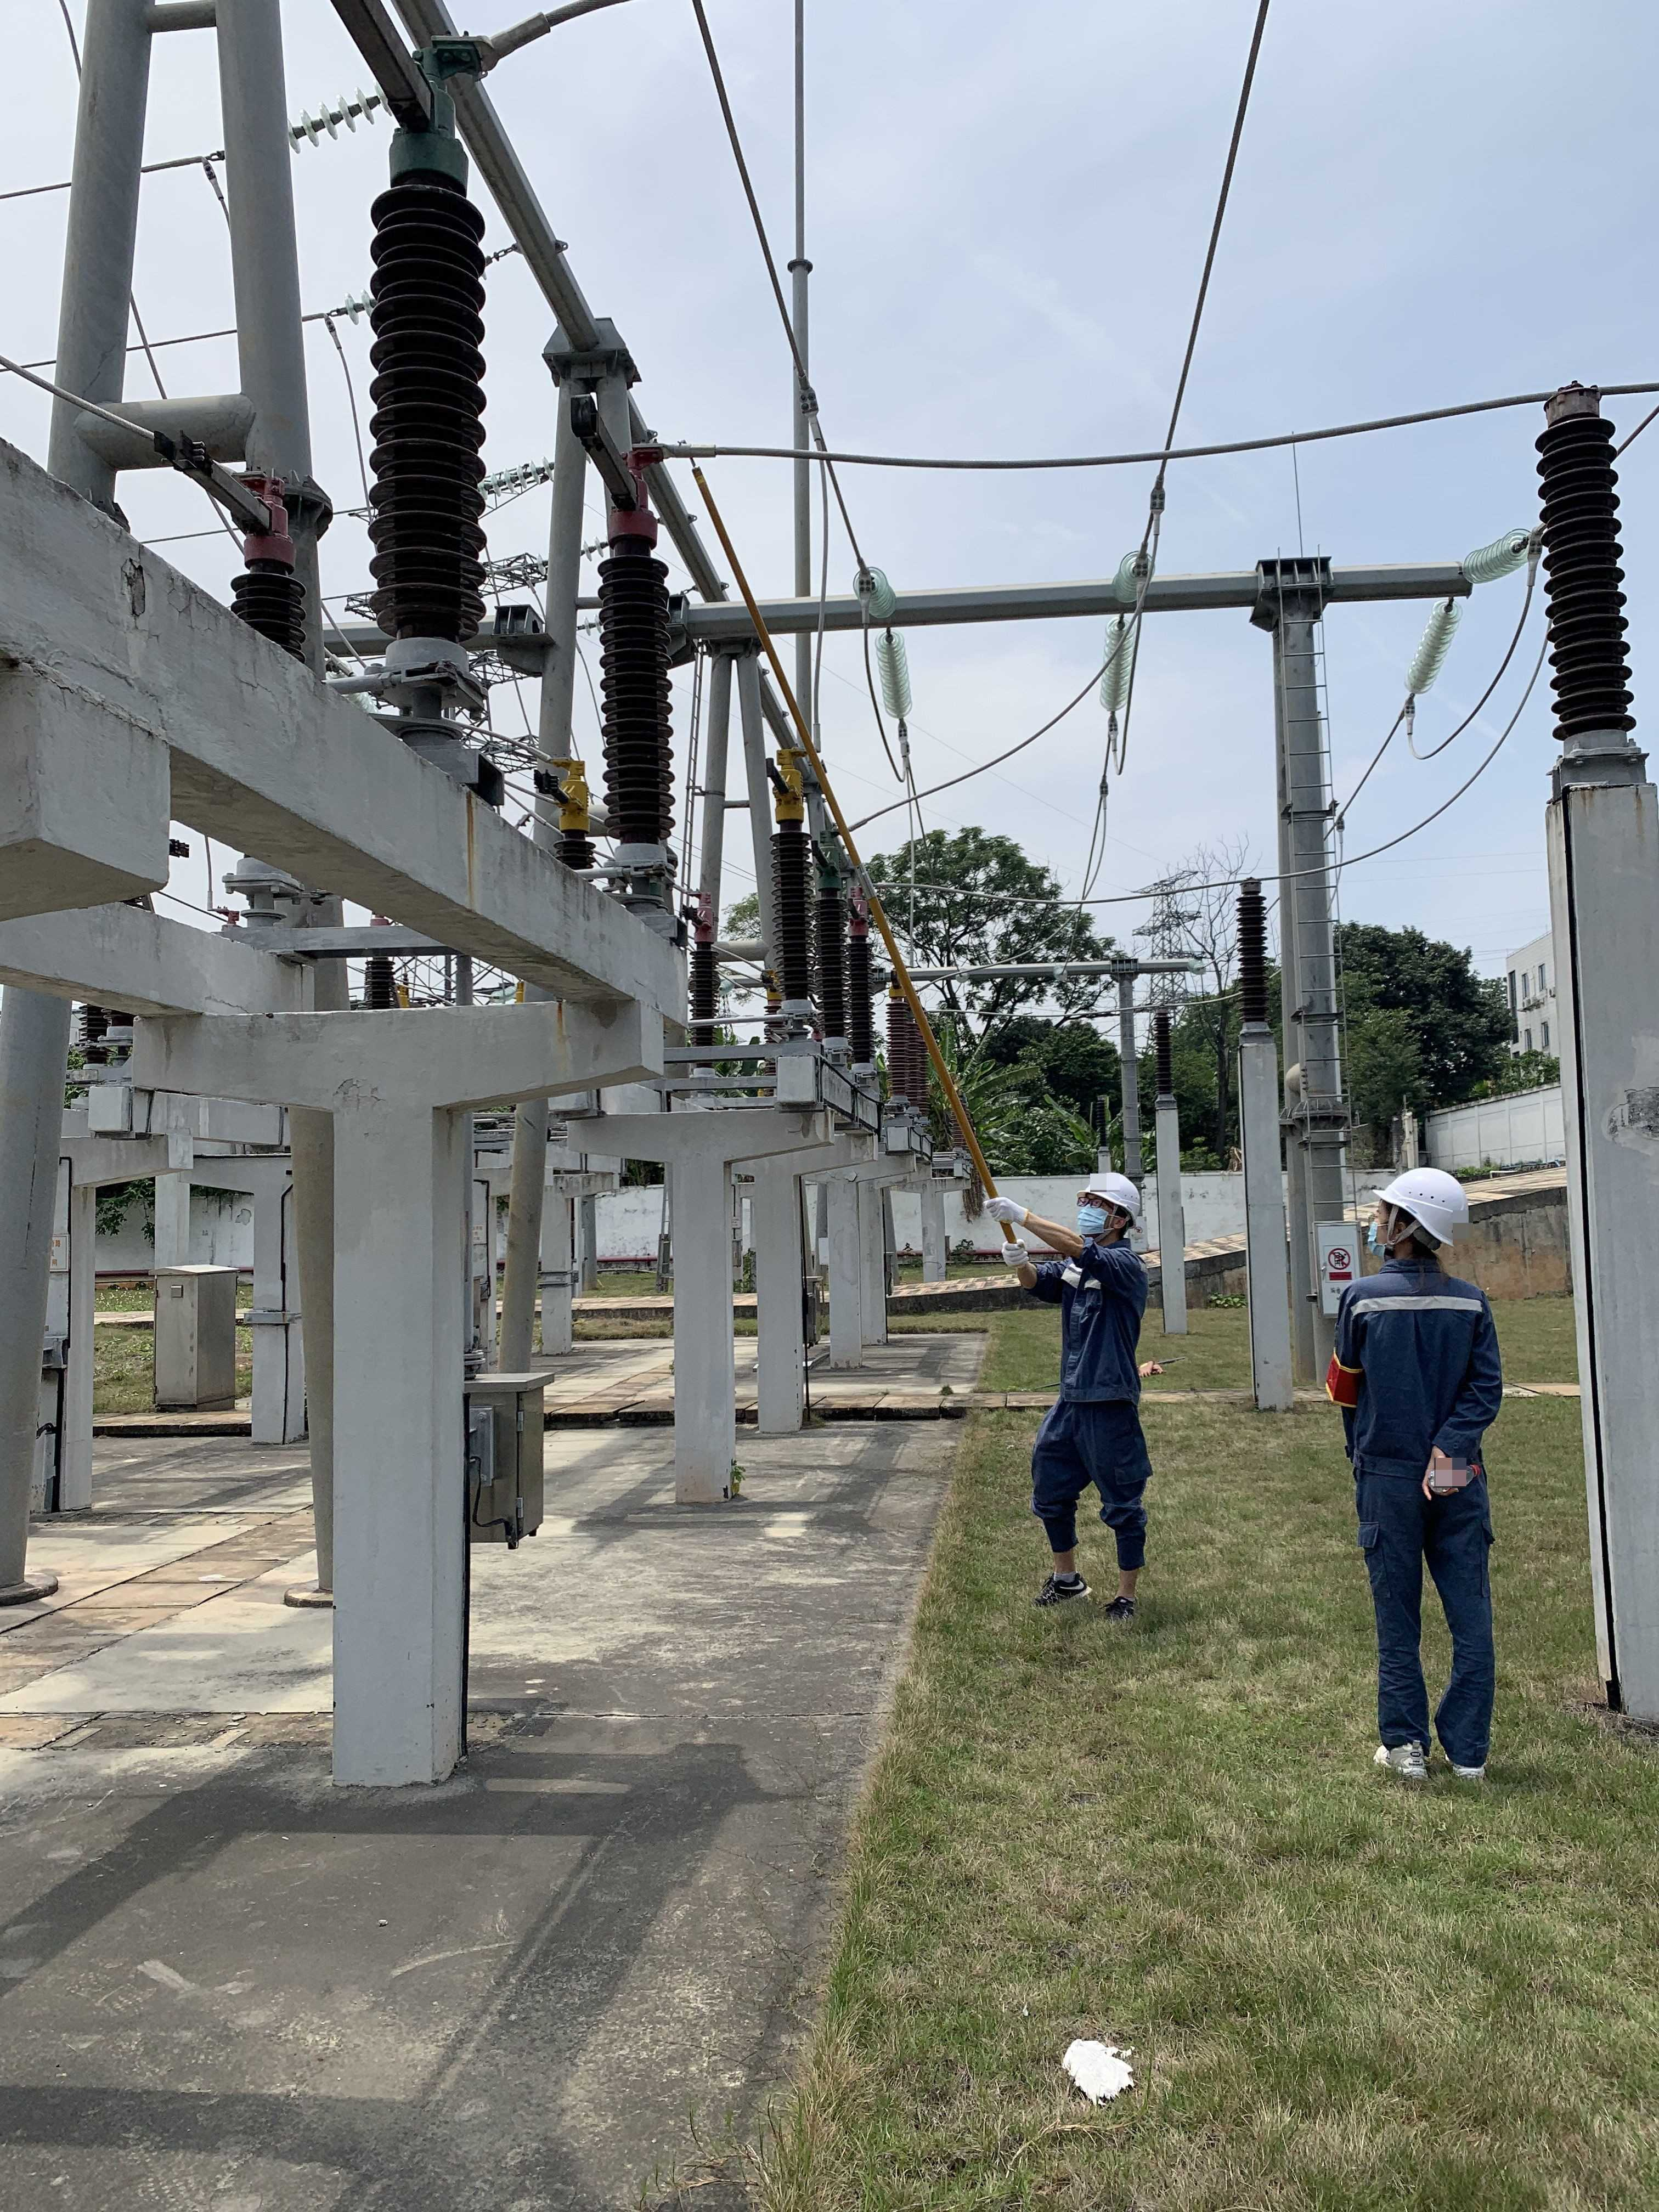downsuit: (1358, 1489, 1502, 1750), (1030, 1418, 1155, 1564)
upsuit: (1319, 1261, 1511, 1472), (1033, 1238, 1155, 1402)
wrongbottom: (1033, 1501, 1150, 1599)
wrongtop: (1014, 1207, 1091, 1289)
